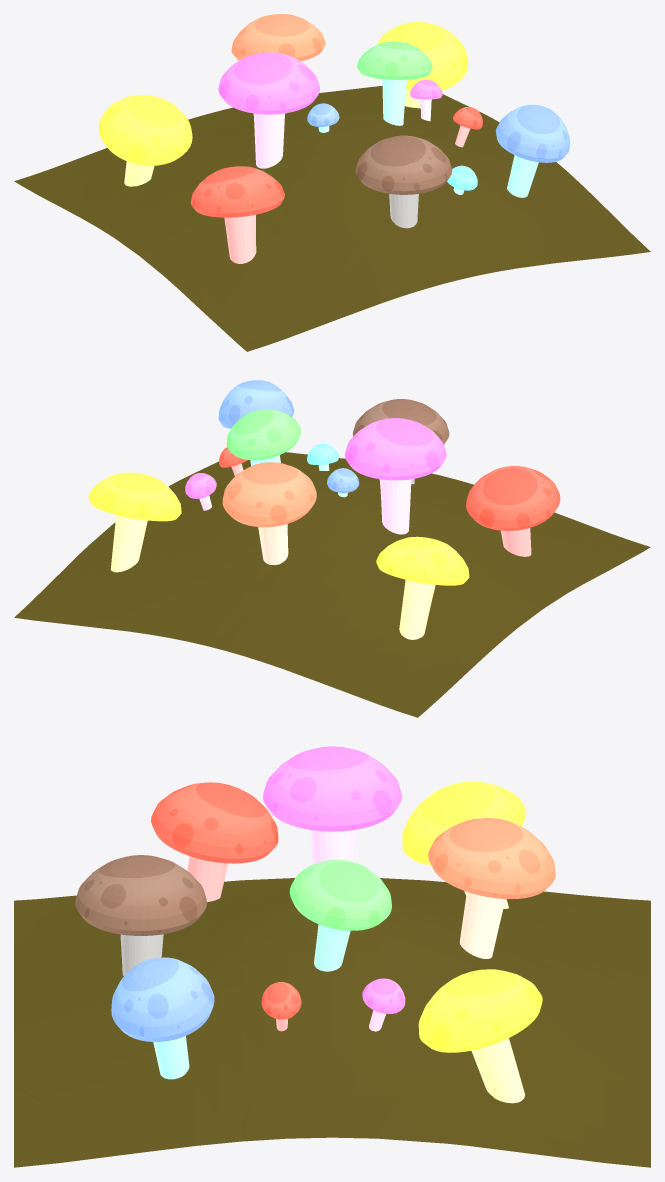
Rendered from mushrooms.glb.
3 renders of one model, top to bottom at view 1: azimuth 30°, elevation 25°; view 2: azimuth 150°, elevation 25°; view 3: azimuth 270°, elevation 25°, orthographic. The views are drawn at different scales.
Visible parts, largest first — view 1: pPlane4_aiStandardSurface1_0, pCylinder9_MushroomYellow_0, pCylinder3_MushroomPink_0, pCylinder7_MushroomRed_0, pCylinder8_MushroomOriginal_0, pCylinder5_MushroomBlue_0, pCylinder4_MushroomGreen_0, pCylinder6_MushroomBrown_0, pCylinder11_MushroomLightBlue_0; view 2: pPlane4_aiStandardSurface1_0, pCylinder9_MushroomYellow_0, pCylinder3_MushroomPink_0, pCylinder7_MushroomRed_0, pCylinder6_MushroomBrown_0, pCylinder4_MushroomGreen_0, pCylinder5_MushroomBlue_0, pCylinder8_MushroomOriginal_0, pCylinder11_MushroomLightBlue_0; view 3: pPlane4_aiStandardSurface1_0, pCylinder9_MushroomYellow_0, pCylinder3_MushroomPink_0, pCylinder7_MushroomRed_0, pCylinder6_MushroomBrown_0, pCylinder8_MushroomOriginal_0, pCylinder5_MushroomBlue_0, pCylinder4_MushroomGreen_0.
Boxes of the visible parts, x1,y1,x2,y2 form: pPlane4_aiStandardSurface1_0: (14, 85, 650, 351); pCylinder9_MushroomYellow_0: (98, 22, 468, 186); pCylinder3_MushroomPink_0: (218, 52, 442, 168); pCylinder7_MushroomRed_0: (190, 107, 482, 263); pCylinder8_MushroomOriginal_0: (355, 135, 452, 228); pCylinder5_MushroomBlue_0: (307, 103, 569, 197); pCylinder4_MushroomGreen_0: (357, 41, 432, 125); pCylinder6_MushroomBrown_0: (231, 14, 325, 113); pCylinder11_MushroomLightBlue_0: (447, 165, 477, 194); pPlane4_aiStandardSurface1_0: (14, 452, 650, 717); pCylinder9_MushroomYellow_0: (88, 472, 469, 639); pCylinder3_MushroomPink_0: (185, 418, 446, 534); pCylinder7_MushroomRed_0: (219, 447, 560, 556); pCylinder6_MushroomBrown_0: (222, 462, 316, 565); pCylinder4_MushroomGreen_0: (226, 409, 301, 463); pCylinder5_MushroomBlue_0: (218, 380, 359, 497); pCylinder8_MushroomOriginal_0: (352, 399, 449, 484); pCylinder11_MushroomLightBlue_0: (307, 444, 338, 470); pPlane4_aiStandardSurface1_0: (14, 878, 650, 1167); pCylinder9_MushroomYellow_0: (402, 781, 542, 1103); pCylinder3_MushroomPink_0: (263, 746, 405, 1031); pCylinder7_MushroomRed_0: (151, 782, 301, 1031); pCylinder6_MushroomBrown_0: (428, 818, 555, 958); pCylinder8_MushroomOriginal_0: (75, 855, 206, 975); pCylinder5_MushroomBlue_0: (111, 957, 214, 1079); pCylinder4_MushroomGreen_0: (289, 859, 391, 971).
Bounding box in the file's own units: 9.43 × 3.88 × 9.43.
Materials: 9 (8 with a texture image).
